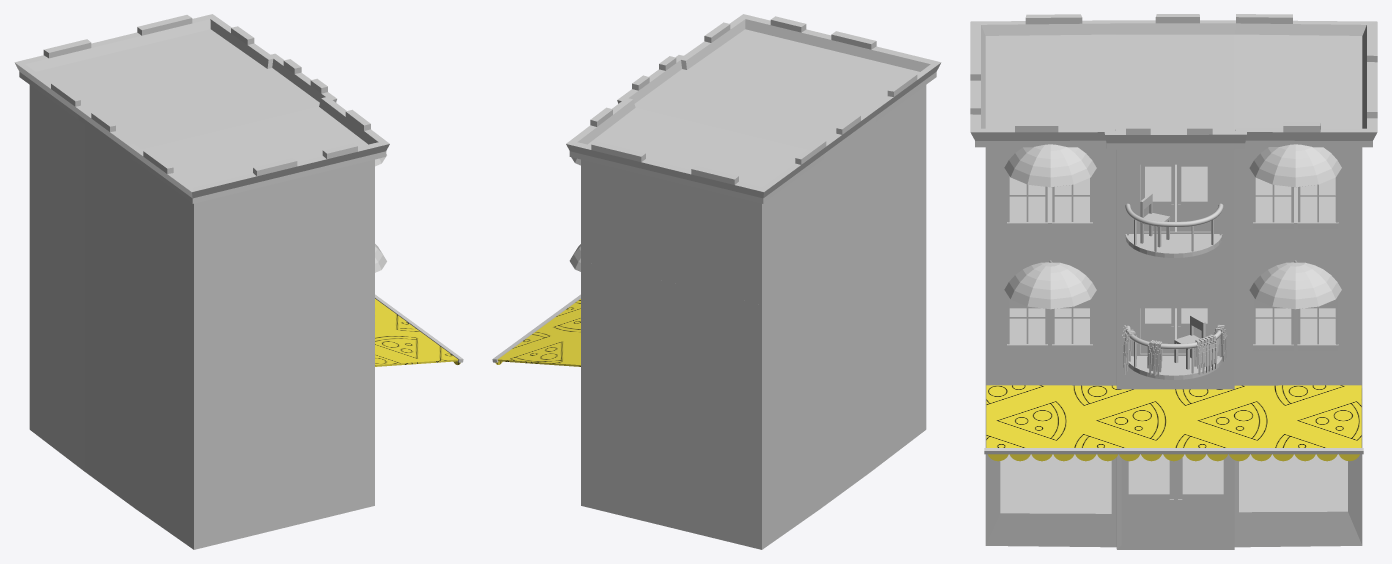
The model's file is Pizza1.fbx.
3 renders of one model, left to right at view 1: azimuth 30°, elevation 25°; view 2: azimuth 150°, elevation 25°; view 3: azimuth 270°, elevation 25°, orthographic. The views are drawn at different scales.
Visible parts, largest first — view 1: Cube, Cube.122, Cube.080, Cube.121, Circle; view 2: Cube, Cube.122, Cube.080, Cube.121, Circle; view 3: Cube.122, Cube, Cube.080, Circle, Cube.121, Cube.003, Cube.007, Sphere.001, Sphere.003, Sphere.006, Sphere.005, Cube.004 (+7 smaller).
Boxes of the visible parts, box(x1,y1,x2,y2) form: Cube: box(29, 291, 374, 549); Cube.122: box(14, 14, 389, 203); Cube.080: box(29, 185, 374, 411); Cube.121: box(29, 85, 374, 304); Circle: box(375, 299, 460, 366); Cube: box(581, 291, 926, 549); Cube.122: box(566, 14, 941, 203); Cube.080: box(581, 185, 926, 411); Cube.121: box(581, 85, 926, 304); Circle: box(495, 299, 580, 366); Cube.122: box(970, 14, 1377, 149); Cube: box(985, 286, 1362, 549); Cube.080: box(985, 164, 1362, 389); Circle: box(986, 385, 1361, 461); Cube.121: box(985, 147, 1362, 267); Cube.003: box(1175, 454, 1229, 544); Cube.007: box(1121, 458, 1175, 544); Sphere.001: box(1004, 260, 1096, 309); Sphere.003: box(1249, 260, 1341, 309); Sphere.006: box(1249, 144, 1341, 187); Sphere.005: box(1004, 144, 1096, 187); Cube.004: box(984, 448, 1363, 454).
Bounding box in the file's own units: 3284 × 4190 × 3627.
